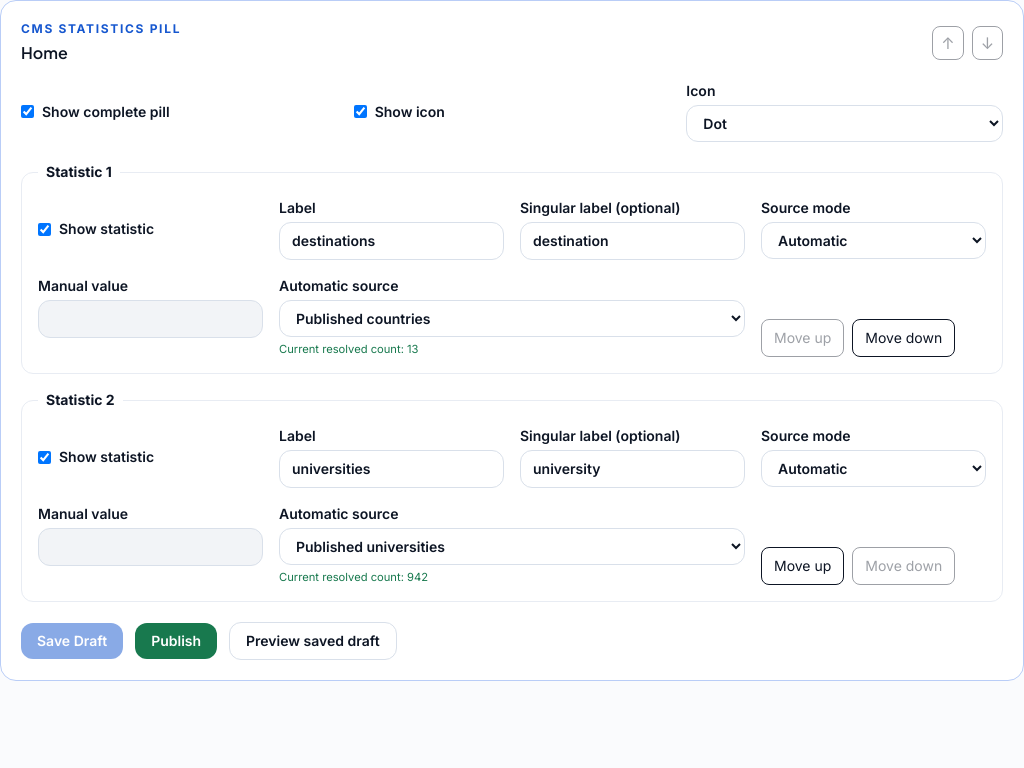
Test: StatsPillEditor › blocks Preview while local changes are unsaved
Replace the text in the 1st field showing "destinations" with "places" at (392, 241), box [279,222,504,260]
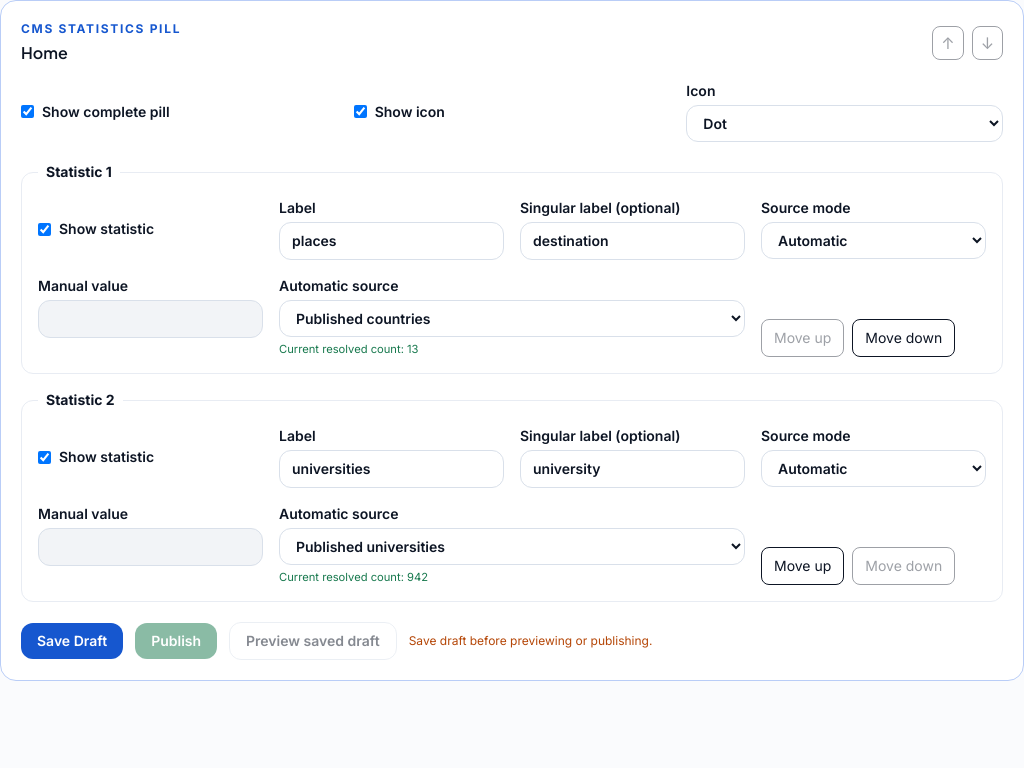
Now the button "Preview saved draft" is disabled, box [229,622,397,660]
